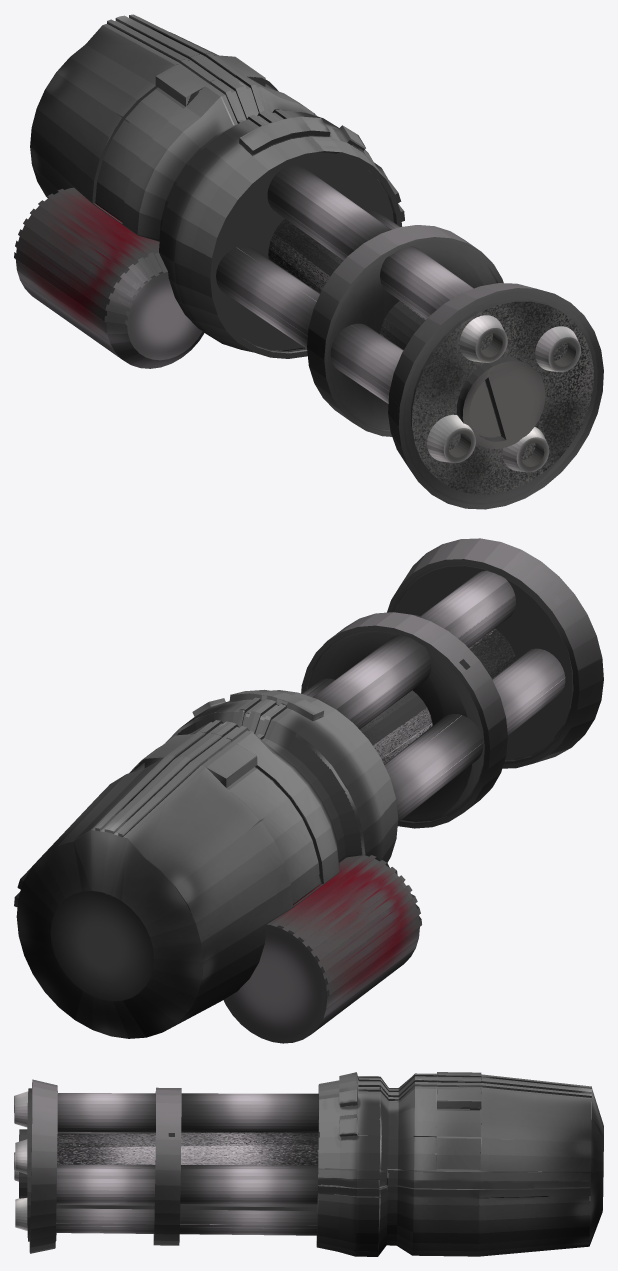
Rendered from minigun.glb.
The picture shows the model from 3 angles, top to bottom: view 1: azimuth 30°, elevation 25°; view 2: azimuth 150°, elevation 25°; view 3: azimuth 270°, elevation 25°; orthographic projection. The views are drawn at different scales.
Parts seen in each view (by area): view 1: Cylinder.006, Cylinder.004, Cylinder.008, Cylinder.001, Cylinder.005, Cylinder.007, Cylinder.002; view 2: Cylinder.006, Cylinder.004, Cylinder.001, Cylinder.005, Cylinder.008, Cylinder.002; view 3: Cylinder.006, Cylinder.005, Cylinder.004, Cylinder.002, Cylinder.007, Cylinder.008.
Boxes of the visible parts, x1=… form: Cylinder.006: x1=30, y1=14, x2=404, y2=358; Cylinder.004: x1=307, y1=225, x2=603, y2=509; Cylinder.008: x1=411, y1=299, x2=593, y2=494; Cylinder.001: x1=14, y1=187, x2=204, y2=368; Cylinder.005: x1=216, y1=165, x2=473, y2=403; Cylinder.007: x1=427, y1=315, x2=580, y2=472; Cylinder.002: x1=268, y1=219, x2=425, y2=349; Cylinder.006: x1=14, y1=689, x2=398, y2=1038; Cylinder.004: x1=301, y1=538, x2=603, y2=828; Cylinder.001: x1=223, y1=855, x2=421, y2=1043; Cylinder.005: x1=302, y1=570, x2=565, y2=822; Cylinder.008: x1=395, y1=566, x2=573, y2=760; Cylinder.002: x1=360, y1=628, x2=516, y2=763; Cylinder.006: x1=316, y1=1072, x2=603, y2=1256; Cylinder.005: x1=56, y1=1093, x2=318, y2=1235; Cylinder.004: x1=29, y1=1079, x2=181, y2=1253; Cylinder.002: x1=57, y1=1132, x2=318, y2=1165; Cylinder.007: x1=14, y1=1091, x2=28, y2=1230; Cylinder.008: x1=19, y1=1088, x2=56, y2=1241.
Bounding box in the file's own units: 1.27 × 1.07 × 3.26.
7 materials, 7 textured.
